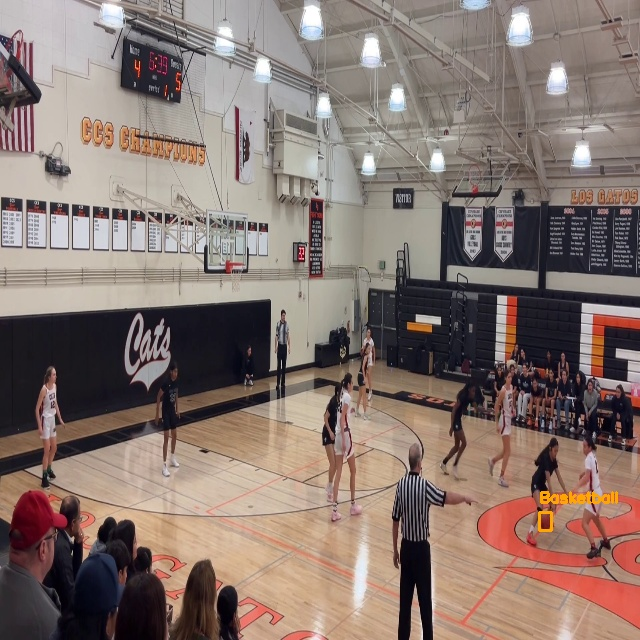Basketball: (539, 512, 551, 530)
